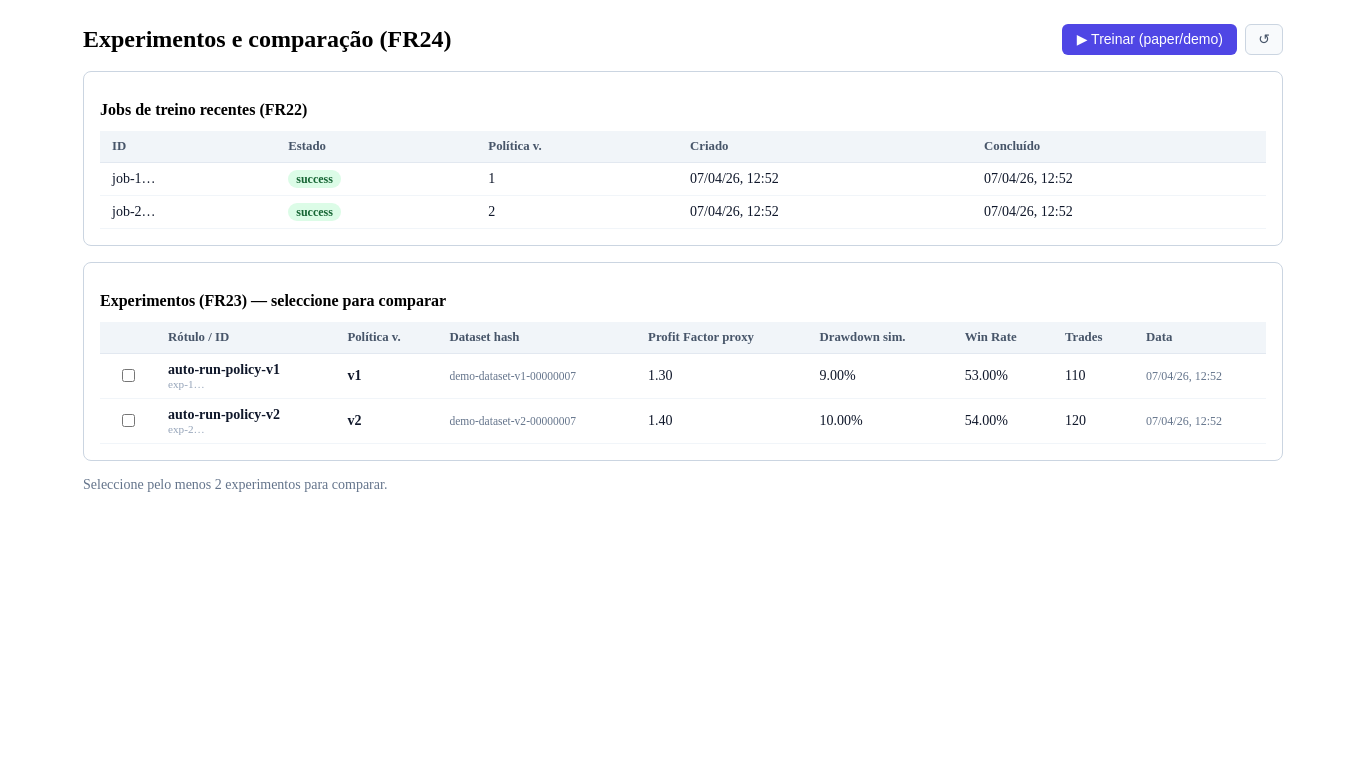
ExperimentsPage (FR23/FR24) › comparador e métricas aparecem ao seleccionar 2 experimentos (FR24)
This screenshot has width=1366, height=768.
Expected: the text "auto-run-policy-v" is shown, top-left (168, 362), bottom-right (280, 377)
Click the text "auto-run-policy-v": {"x": 683, "y": 376} top-left (100, 354), bottom-right (1266, 399)
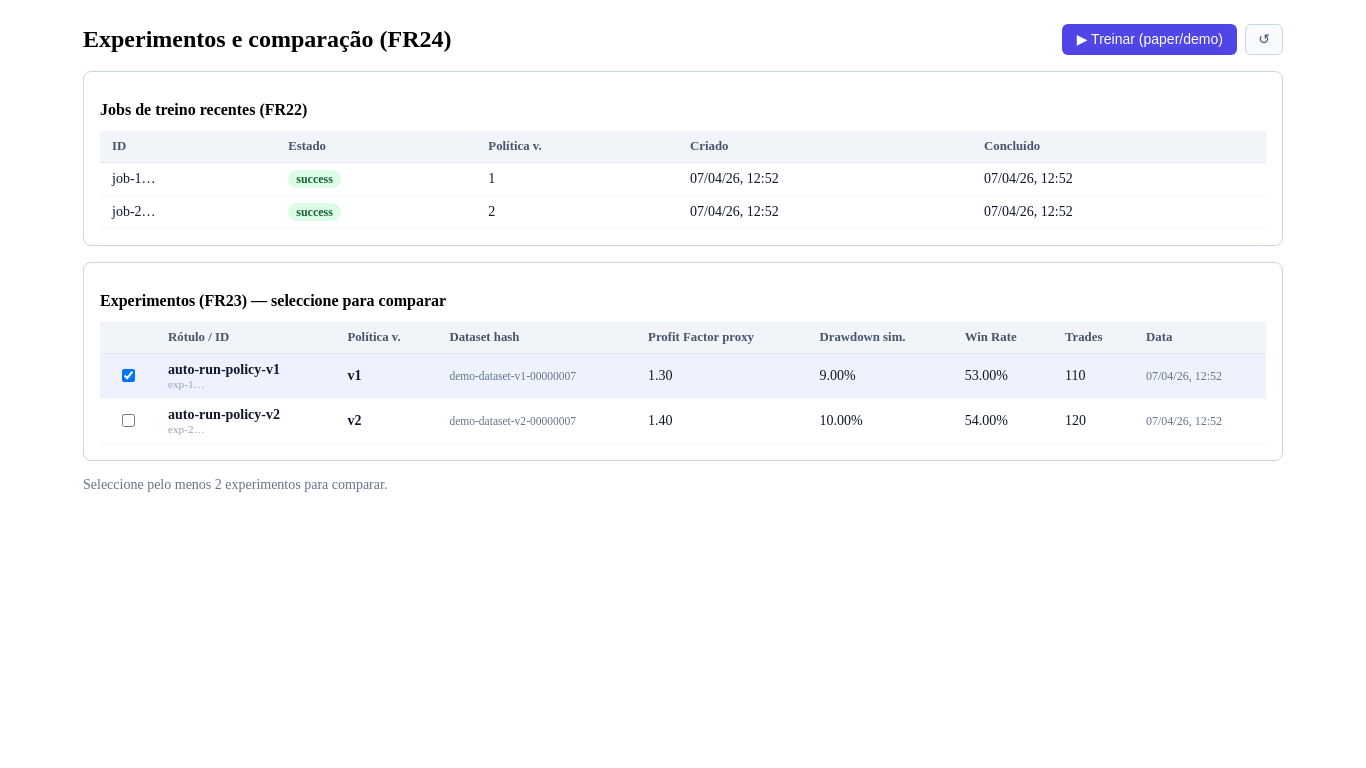
Click the text "auto-run-policy-v": {"x": 683, "y": 421} top-left (100, 399), bottom-right (1266, 444)
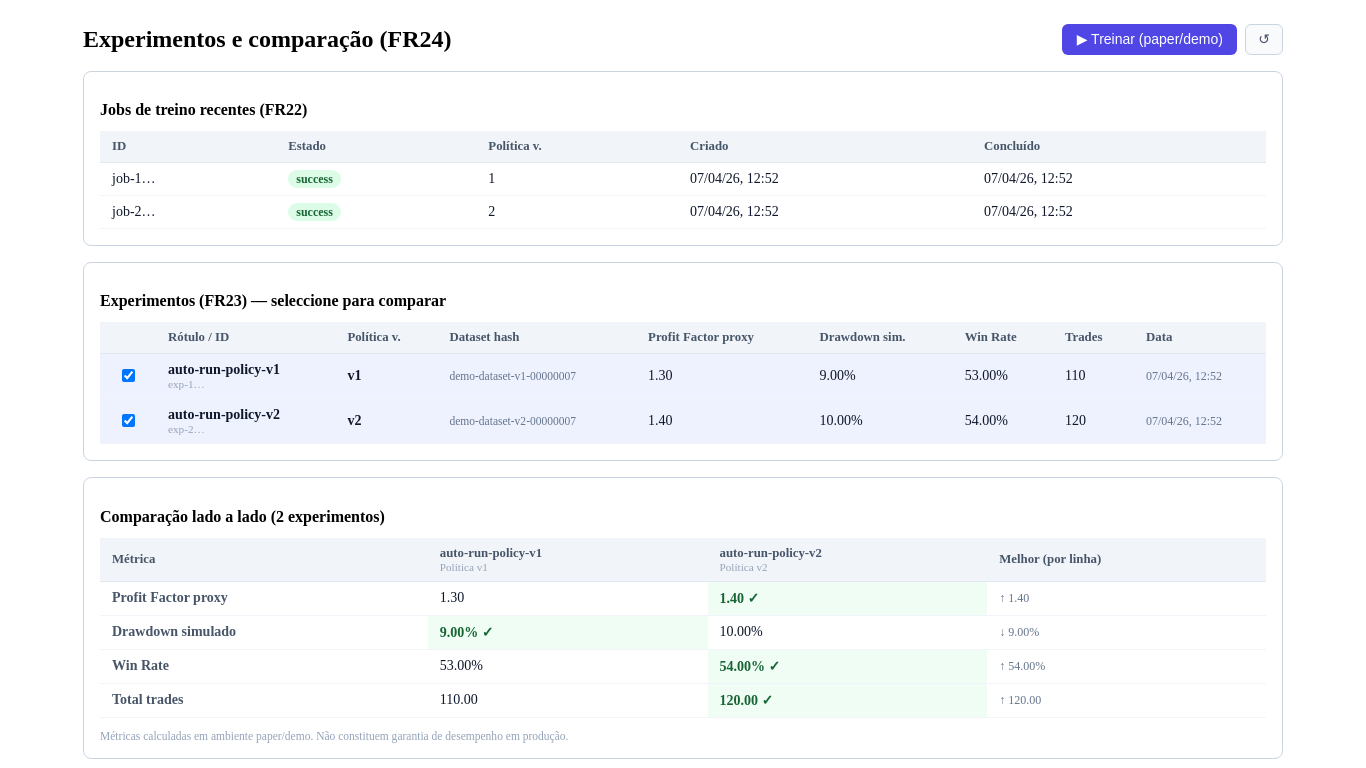
Now the heading "Comparação lado a lado (2 experimentos)" is shown, box top-left (100, 508), bottom-right (385, 525)
Now the text "Drawdown simulado" is shown, box top-left (100, 615), bottom-right (428, 649)
Now the text "Total trades" is shown, box top-left (100, 683), bottom-right (428, 717)
